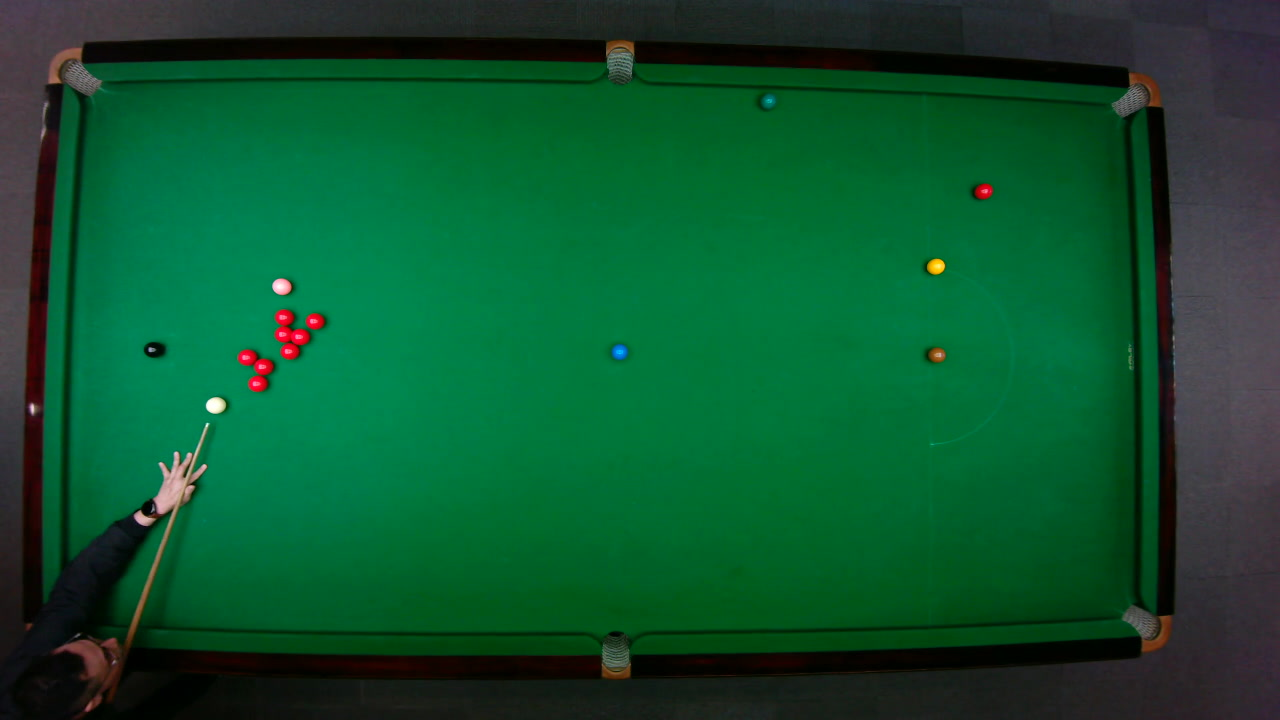bag: (46, 46, 102, 96), (1119, 603, 1172, 652), (1108, 71, 1161, 117), (600, 629, 630, 680), (605, 38, 633, 85)
black: (142, 340, 163, 358)
blue: (610, 342, 628, 360)
brown: (926, 346, 946, 362)
cue: (103, 421, 211, 716)
green: (759, 92, 776, 110)
pink: (270, 276, 291, 295)
red: (236, 347, 258, 366), (972, 181, 994, 200), (273, 307, 294, 326), (252, 357, 274, 375), (288, 327, 310, 345), (246, 374, 268, 392), (304, 311, 324, 330), (279, 342, 300, 359), (273, 325, 293, 342)
white: (203, 395, 227, 414)
yellow: (925, 257, 945, 274)
zone: (926, 265, 1013, 445)
